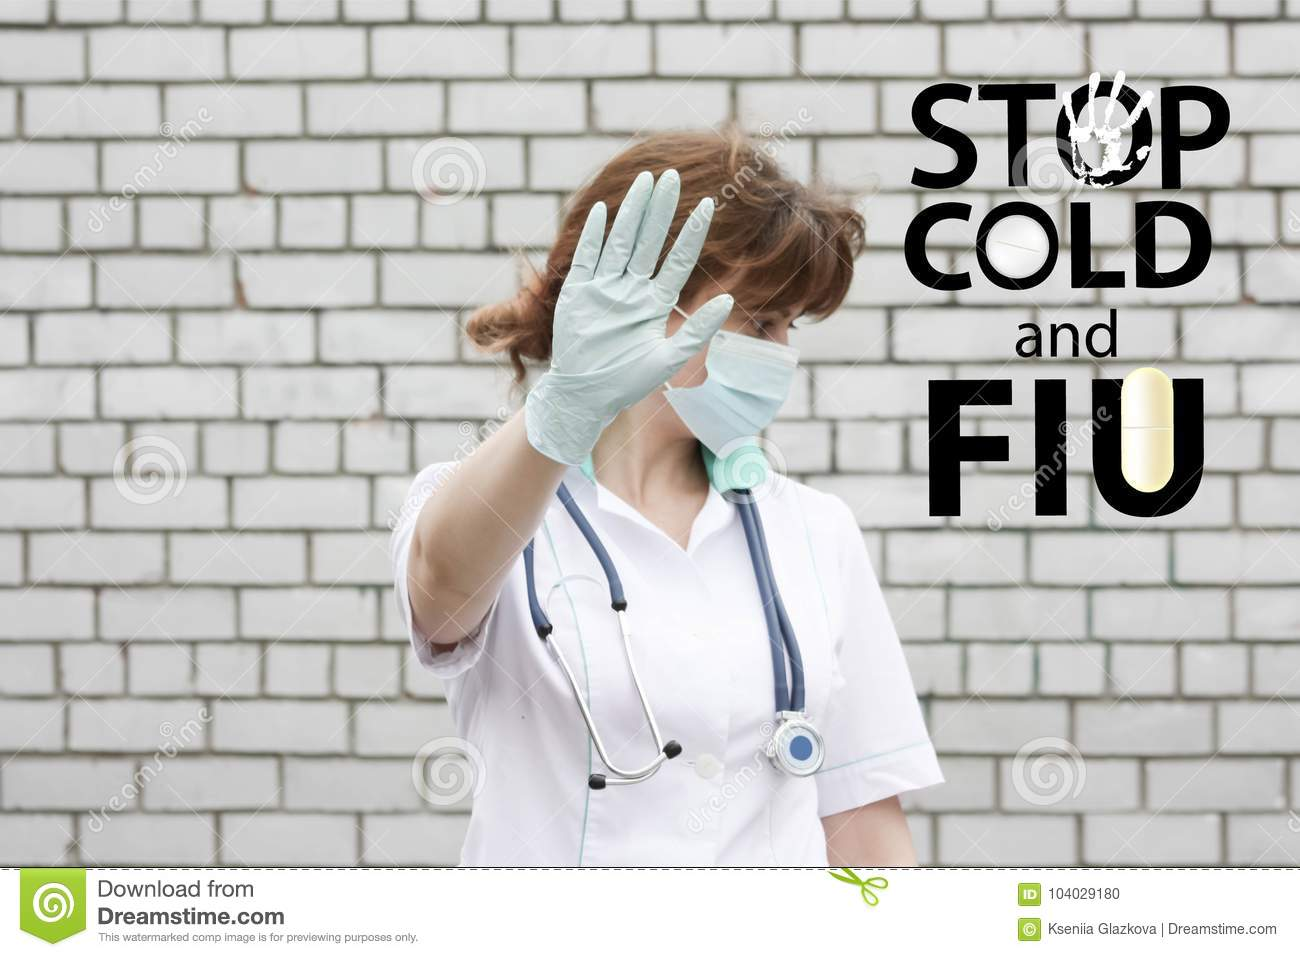mask: (683, 339, 813, 474)
